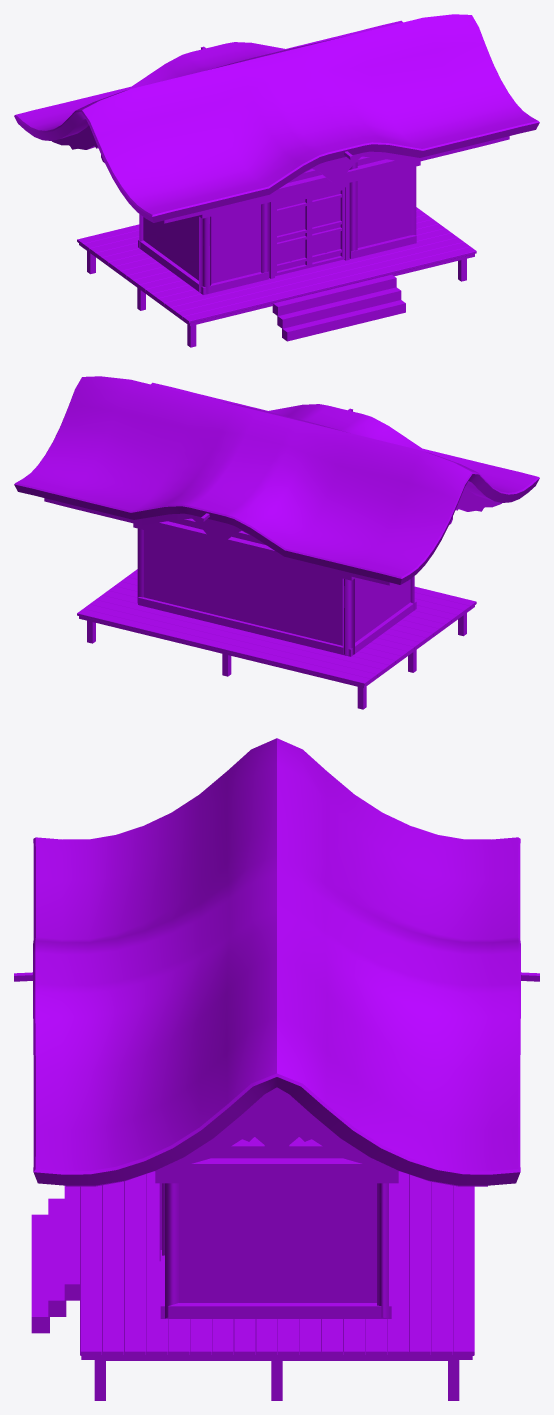
File: petit_temple_LOD1.fbx
The picture shows the model from 3 angles, top to bottom: view 1: azimuth 30°, elevation 25°; view 2: azimuth 150°, elevation 25°; view 3: azimuth 270°, elevation 25°; orthographic projection. The views are drawn at different scales.
Visible parts, largest first — view 1: petit_temple_LOD1; view 2: petit_temple_LOD1; view 3: petit_temple_LOD1.
Part boxes in pixels (x1,y1,x2,y2): petit_temple_LOD1: (14,14,539,347); petit_temple_LOD1: (14,376,539,709); petit_temple_LOD1: (14,738,539,1400).
Bounding box in the file's own units: 29.83 × 16.24 × 19.71.
